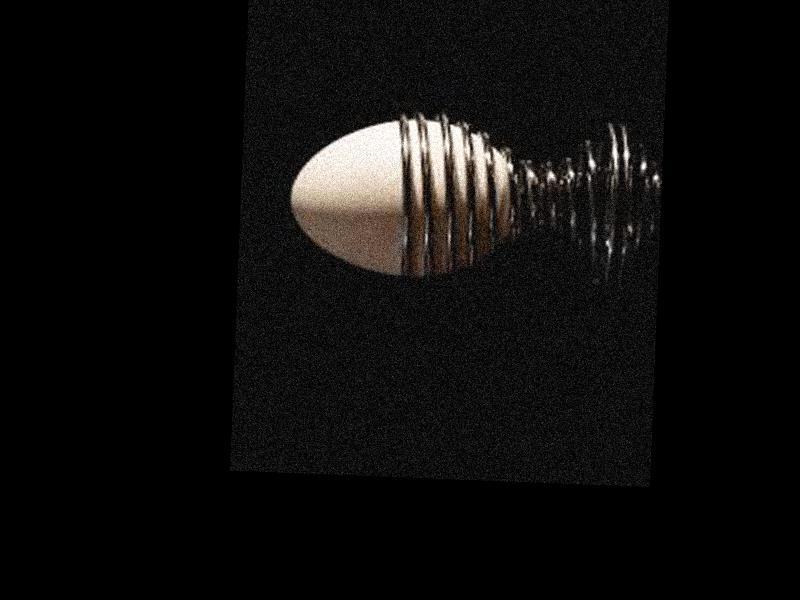Eggs: (286, 113, 515, 279)
